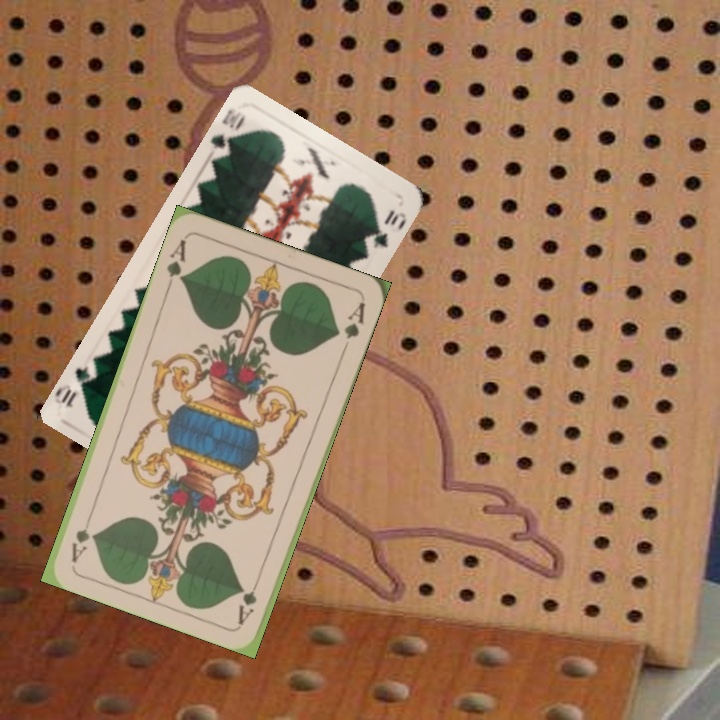G10: (206, 104, 248, 155)
GA: (234, 569, 264, 626), (162, 235, 189, 291)
